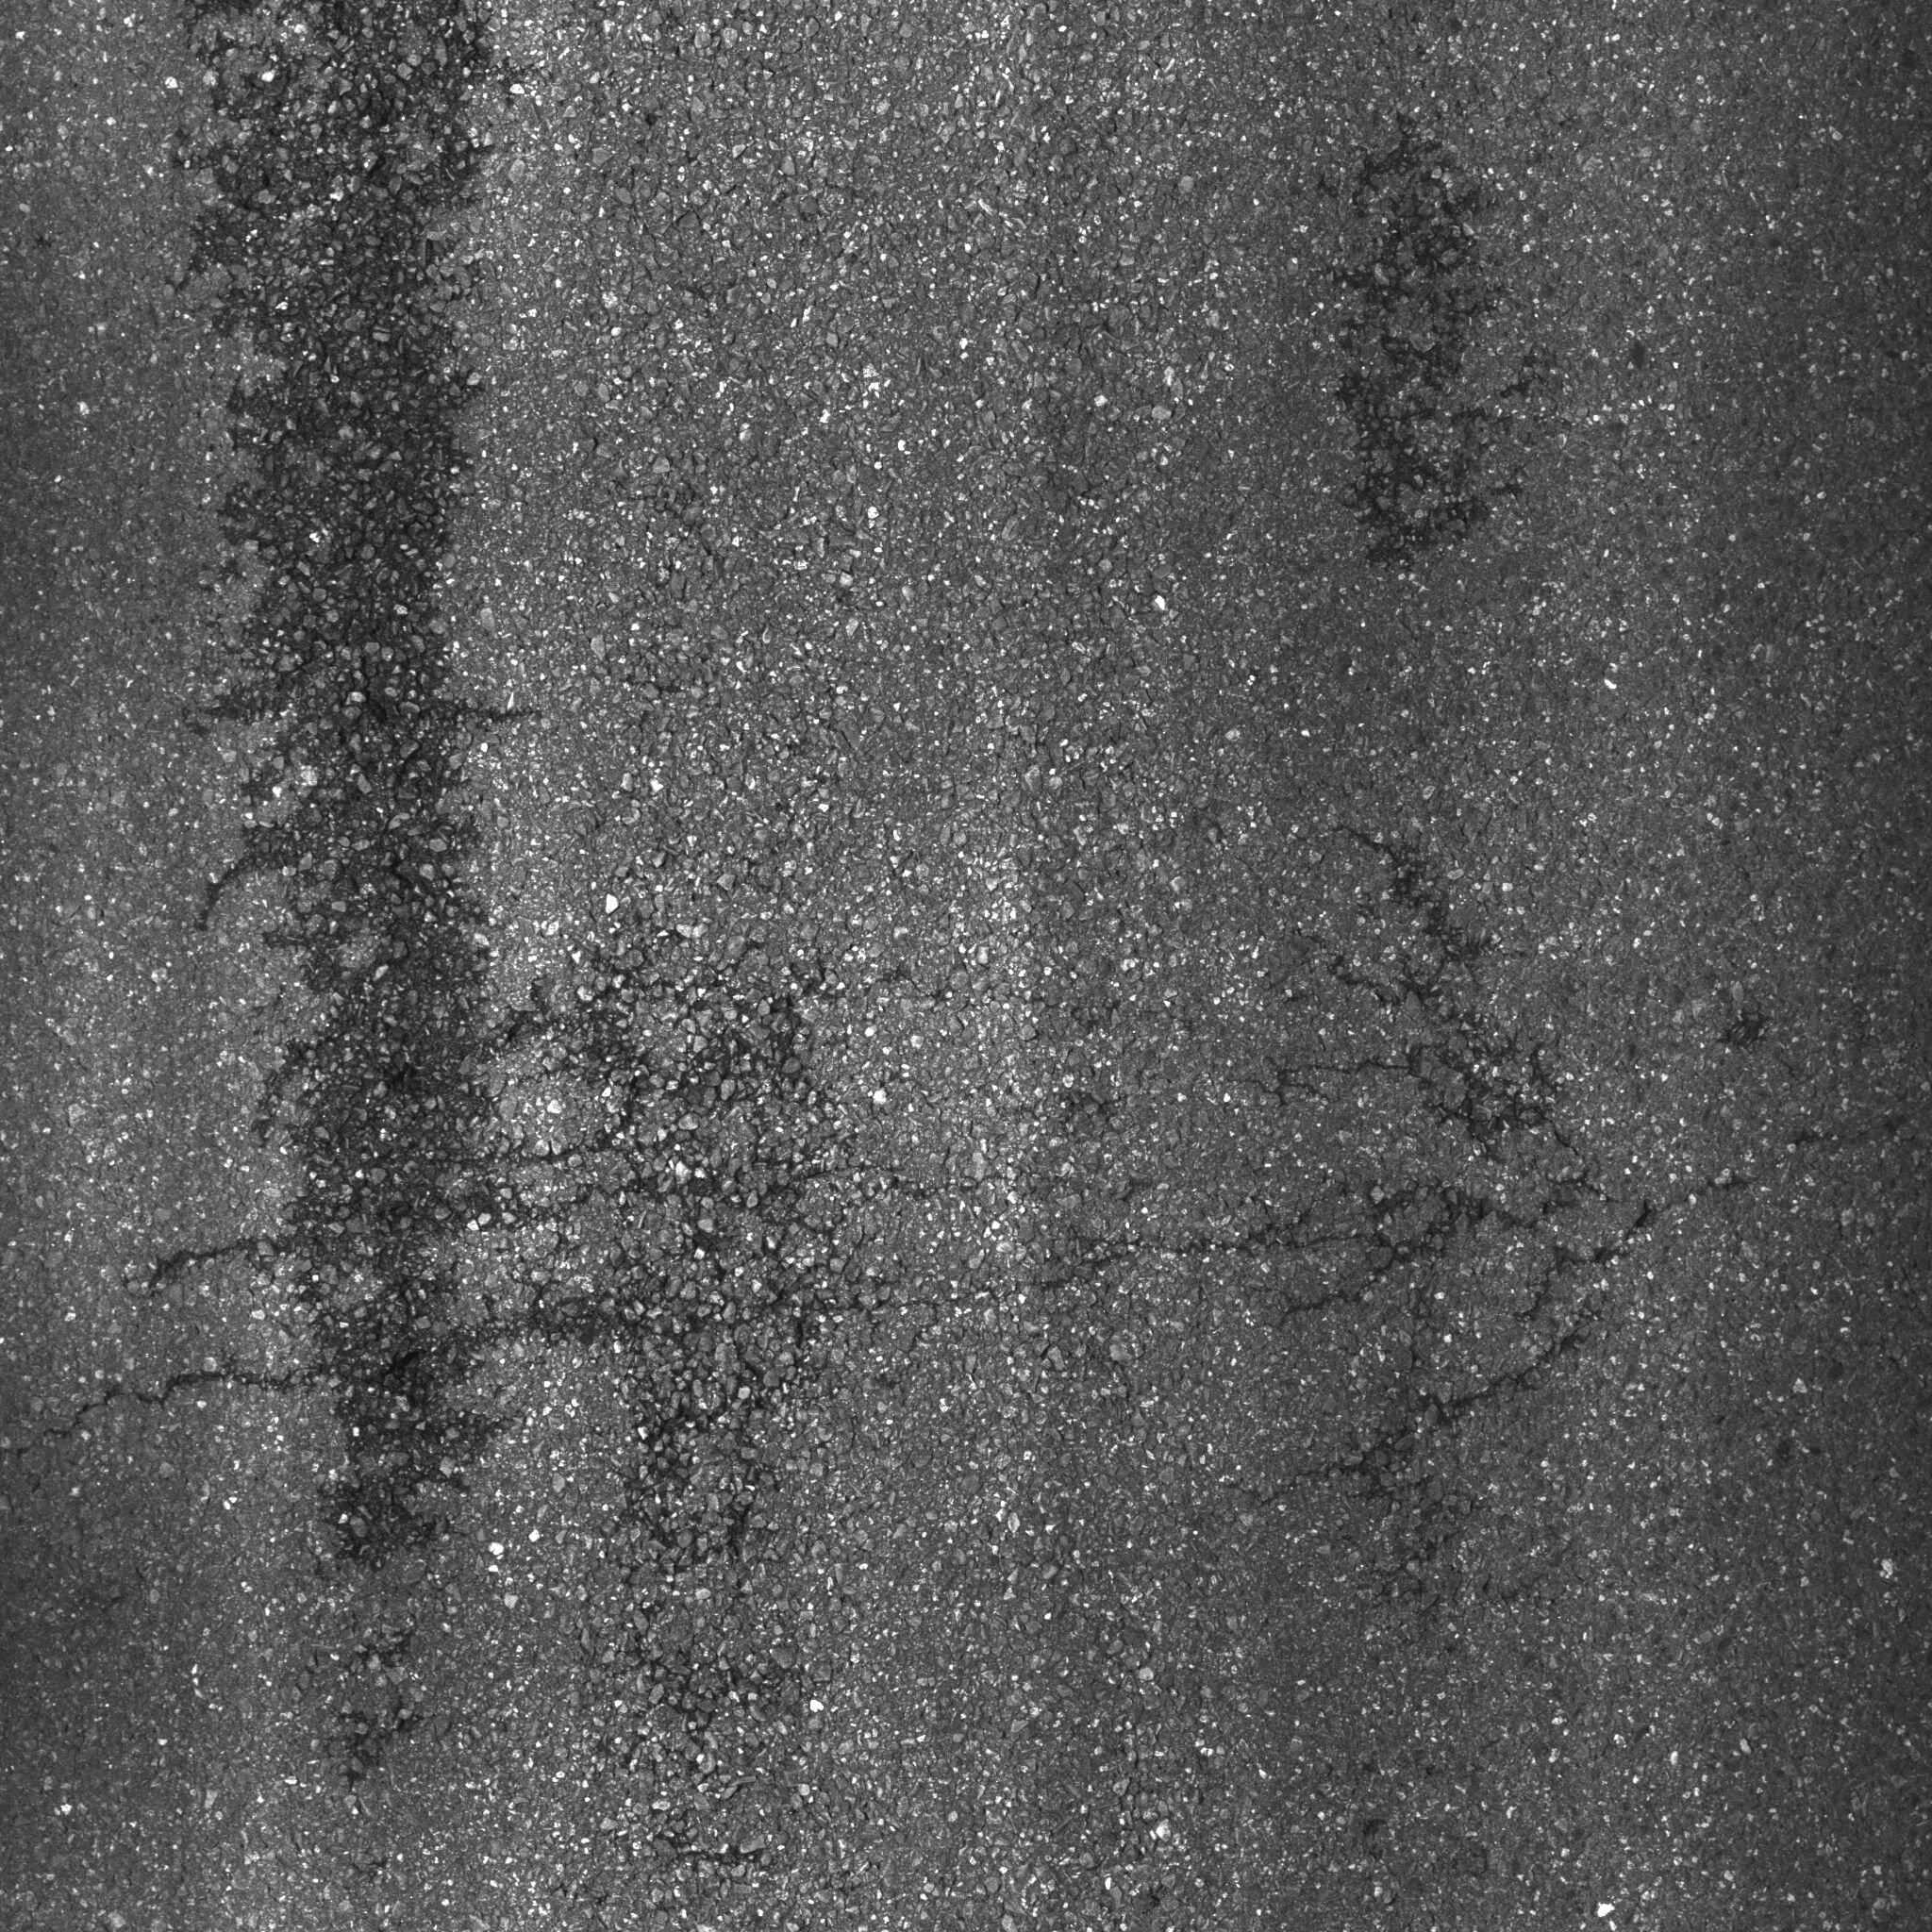transeverse: (18, 1106, 1932, 1514)
